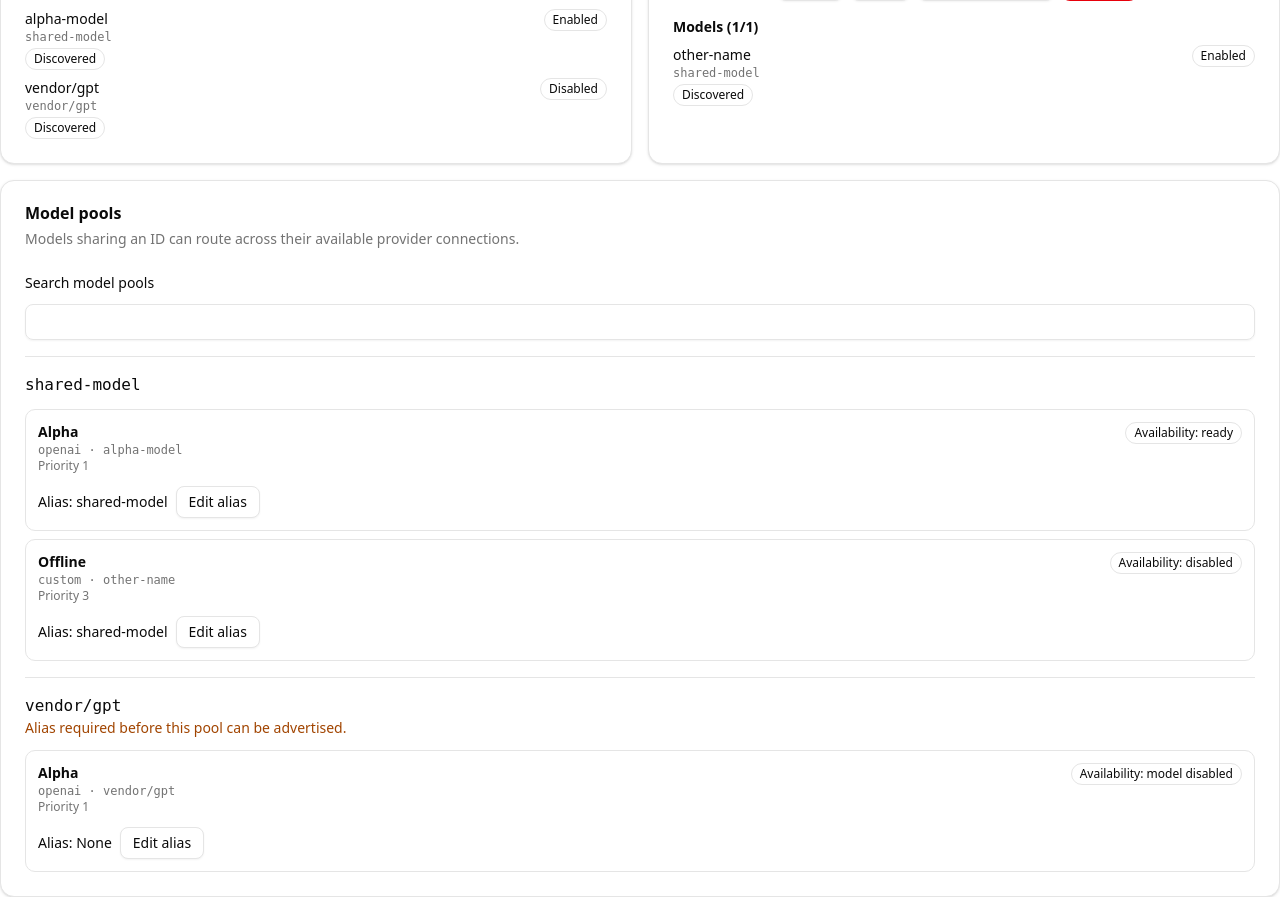
Test: Providers model pools › rejects slash aliases and cancels an unsaved edit without sending a request
The width and height of the screenshot is (1280, 897).
(page scrolled)
Check: the heading "Model pools" is shown, box [25,202,121,224]
Click the button "Edit alias" next to "None" at (162, 843), box [120,827,204,859]
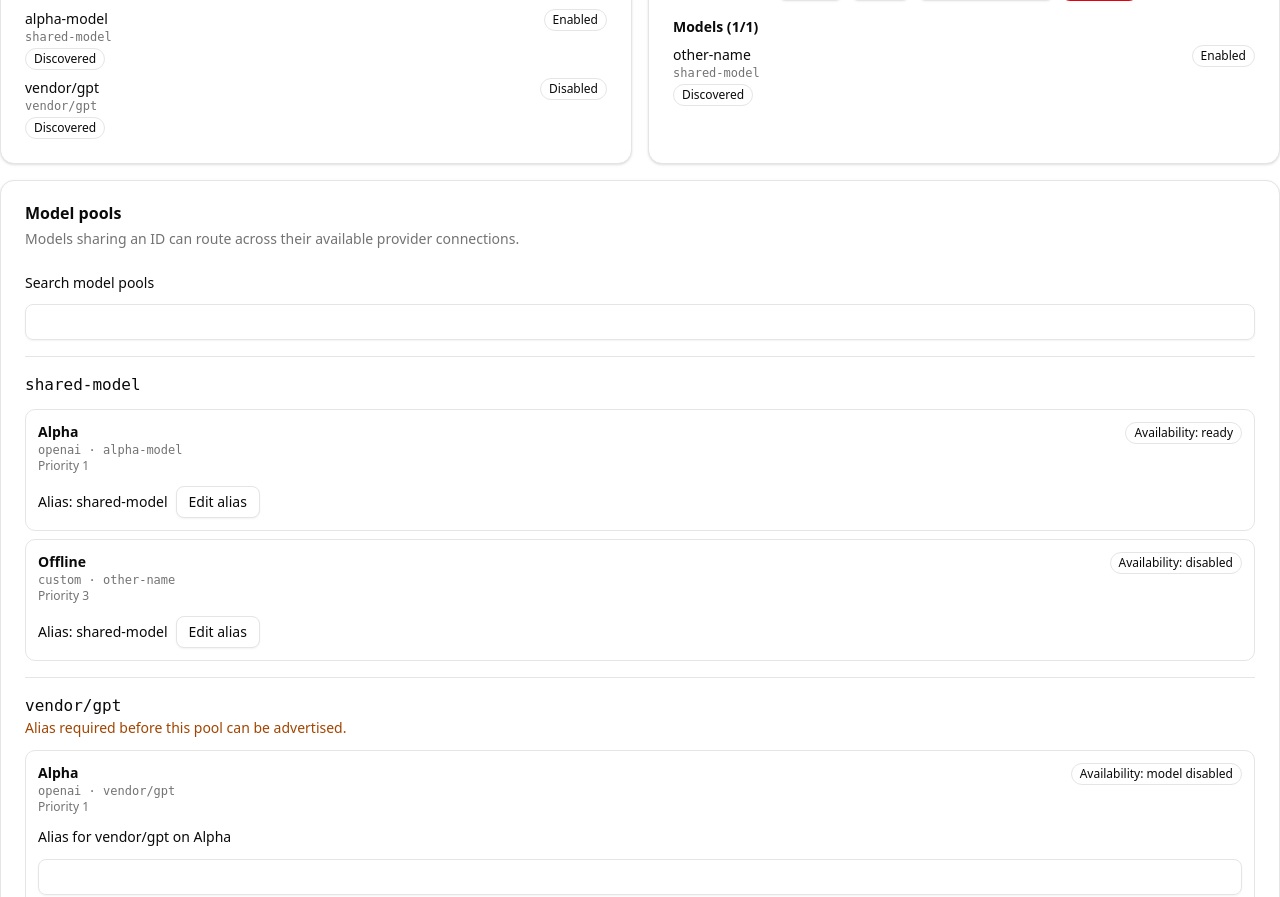
Type "bad/name" into the field labelled "Alias for vendor/gpt on Alpha" at (640, 876), box [38,858,1242,894]
(page scrolled)
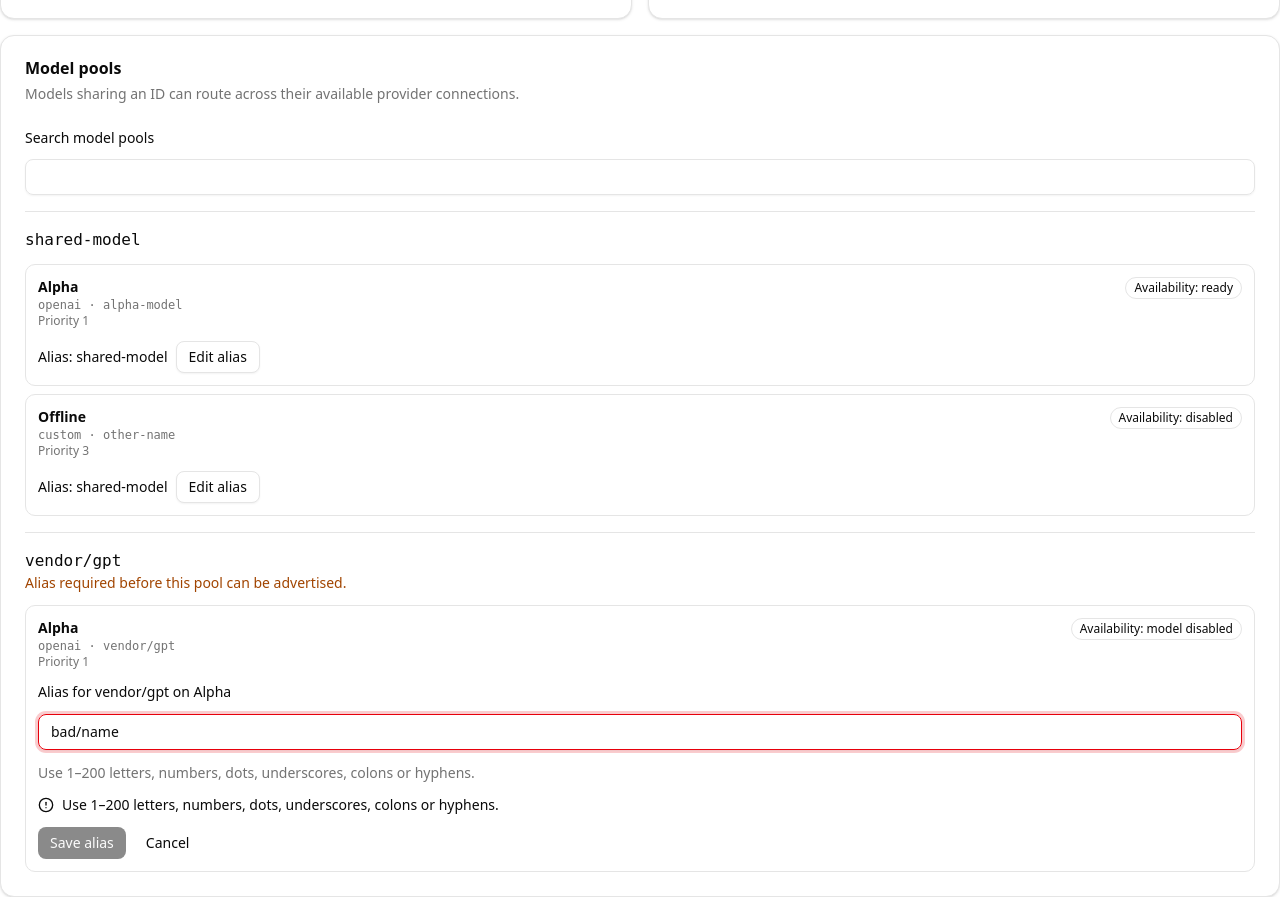
Check: the button "Save alias" is disabled, box [38,826,126,858]
Check: the text "Use 1–200 letters" is shown 2 times, box [38,762,475,782]; [62,794,499,814]
Click the button "Cancel" at (168, 842), box [134,826,201,858]
(page scrolled)
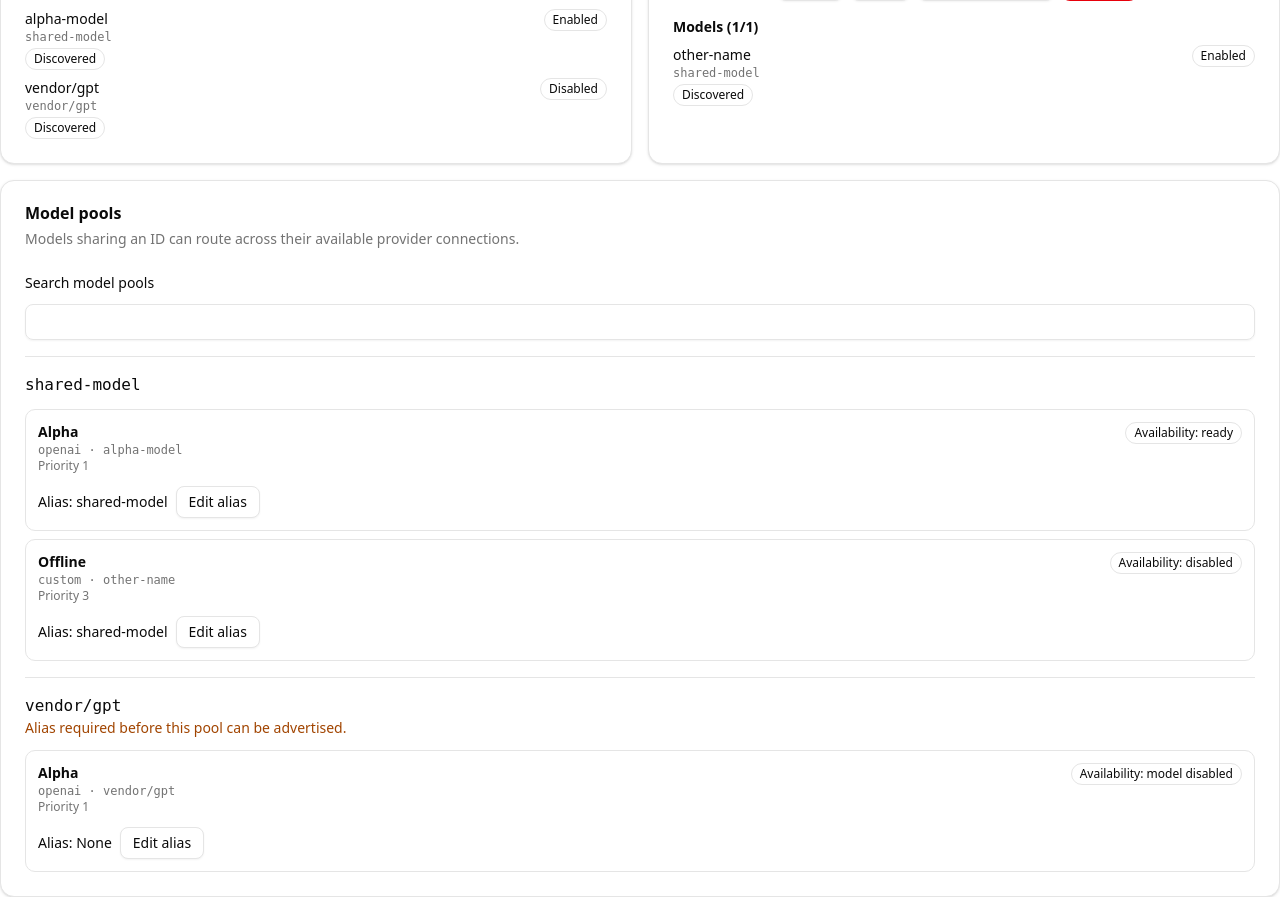
Check: the label "Alias for vendor/gpt on Alpha" is gone
